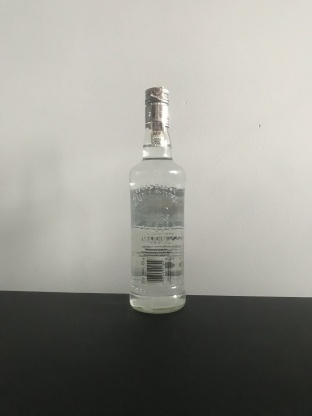nakretka: (143, 84, 170, 129)
